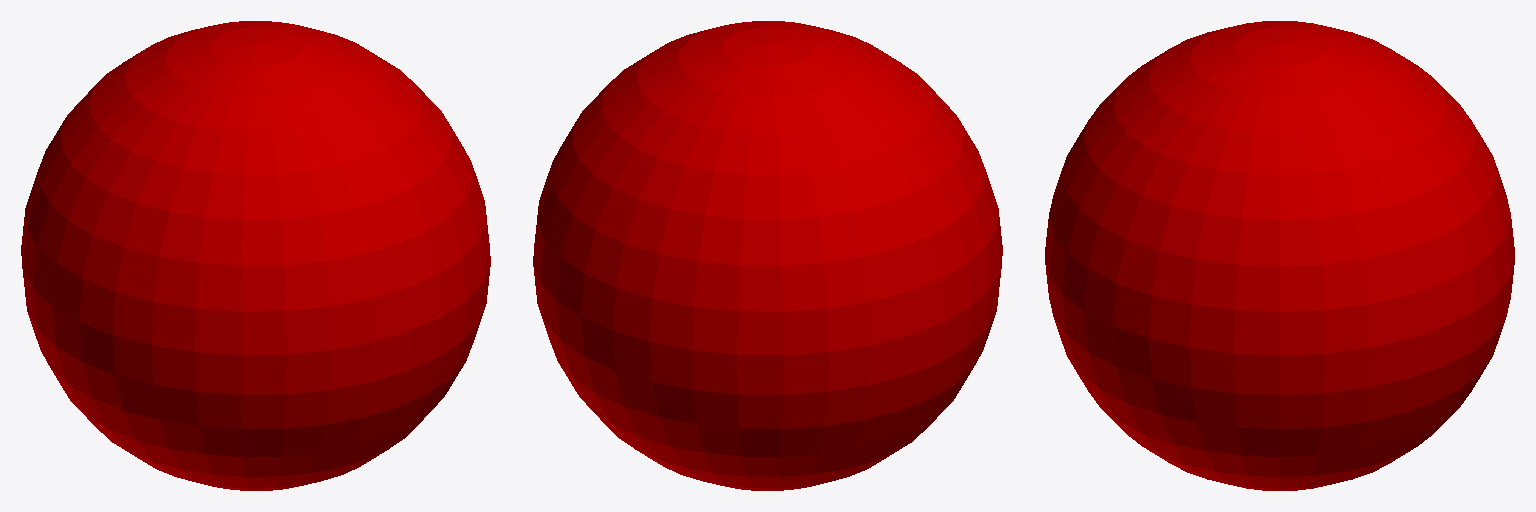
File: SphereMat.obj
3 views of the same model, side by side, from view 1: azimuth 30°, elevation 25°; view 2: azimuth 150°, elevation 25°; view 3: azimuth 270°, elevation 25° (orthographic).
Visible parts, largest first — view 1: Sphere; view 2: Sphere; view 3: Sphere.
Part boxes in pixels (x1,y1,x2,y2): Sphere: (21, 21, 490, 490); Sphere: (533, 21, 1002, 490); Sphere: (1045, 21, 1514, 490).
Bounding box in the file's own units: 2 × 2 × 2.